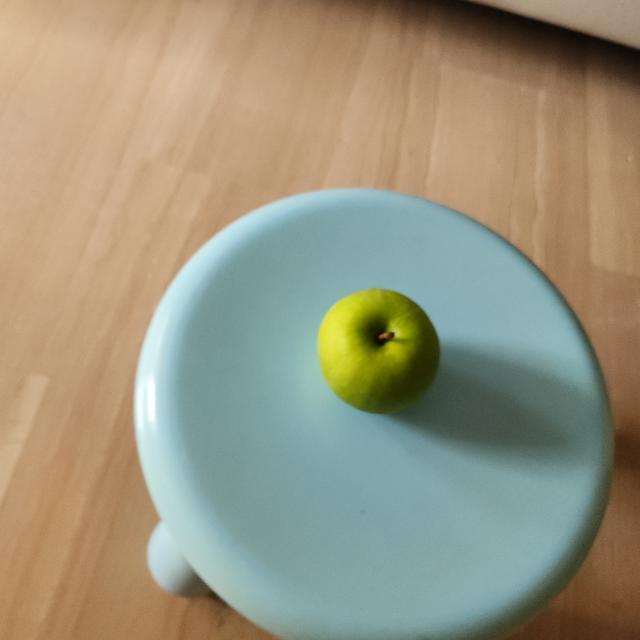apple: (319, 282, 437, 417)
